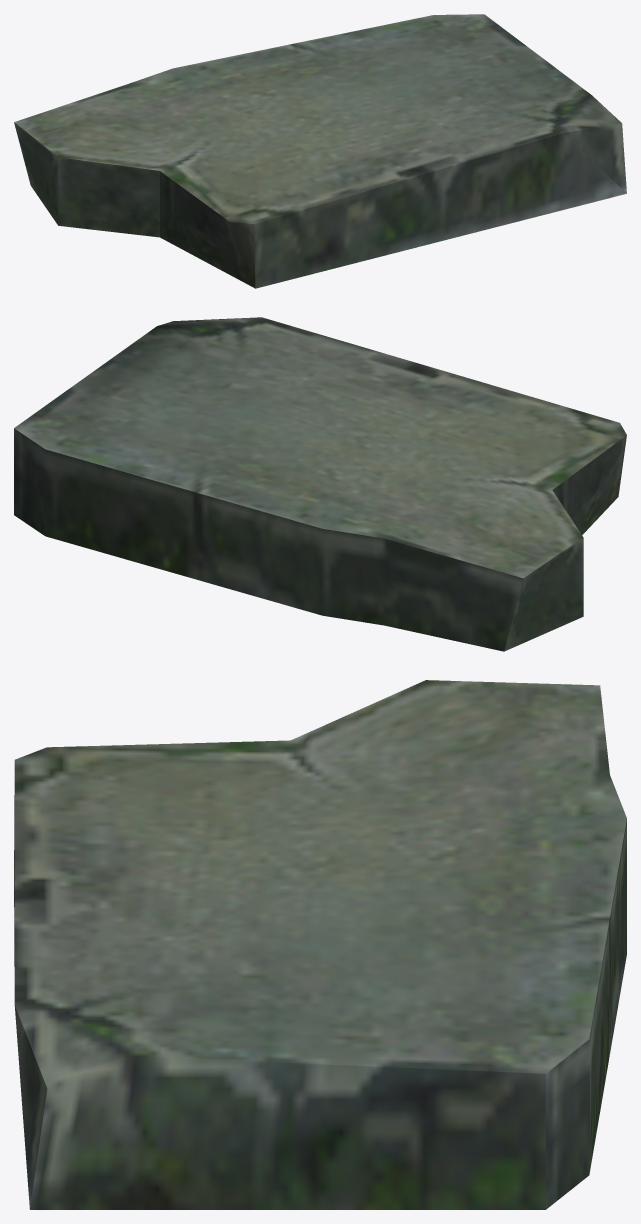
The model's file is zc_erhai_suishi01.FBX.
3 views of the same model, one above another, from view 1: azimuth 30°, elevation 25°; view 2: azimuth 150°, elevation 25°; view 3: azimuth 270°, elevation 25° (orthographic). The views are drawn at different scales.
Visible parts, largest first — view 1: zc_erhai_suishi01; view 2: zc_erhai_suishi01; view 3: zc_erhai_suishi01.
Boxes of the visible parts, box(x1,y1,x2,y2) form: zc_erhai_suishi01: box(14, 14, 626, 288); zc_erhai_suishi01: box(14, 317, 626, 651); zc_erhai_suishi01: box(14, 680, 626, 1209).
Size of the model in its own units: 116 by 19.58 by 74.24.
